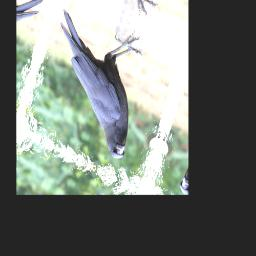Crow: (30, 0, 160, 164)
